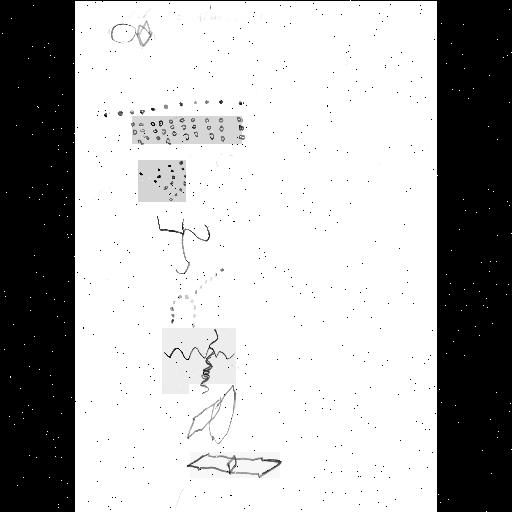shape-1: (110, 18, 154, 48)
shape-2: (106, 96, 244, 116)
shape-3: (132, 116, 242, 144)
shape-4: (138, 160, 186, 202)
shape-5: (157, 214, 209, 272)
shape-6: (170, 266, 224, 326)
shape-7: (162, 328, 236, 394)
shape-8: (189, 384, 235, 446)
shape-9: (190, 452, 280, 478)
